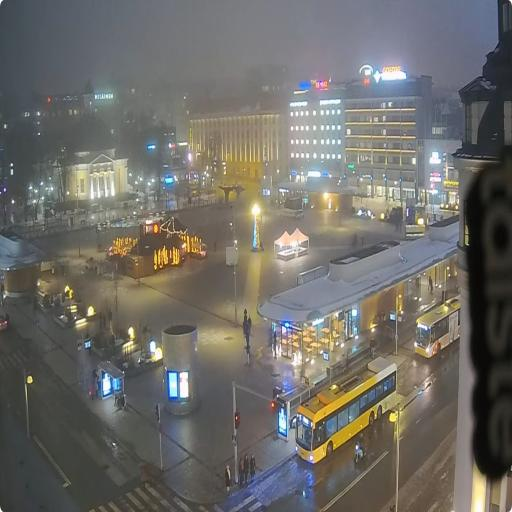Bus: (295, 357, 396, 462), (414, 297, 460, 357)
